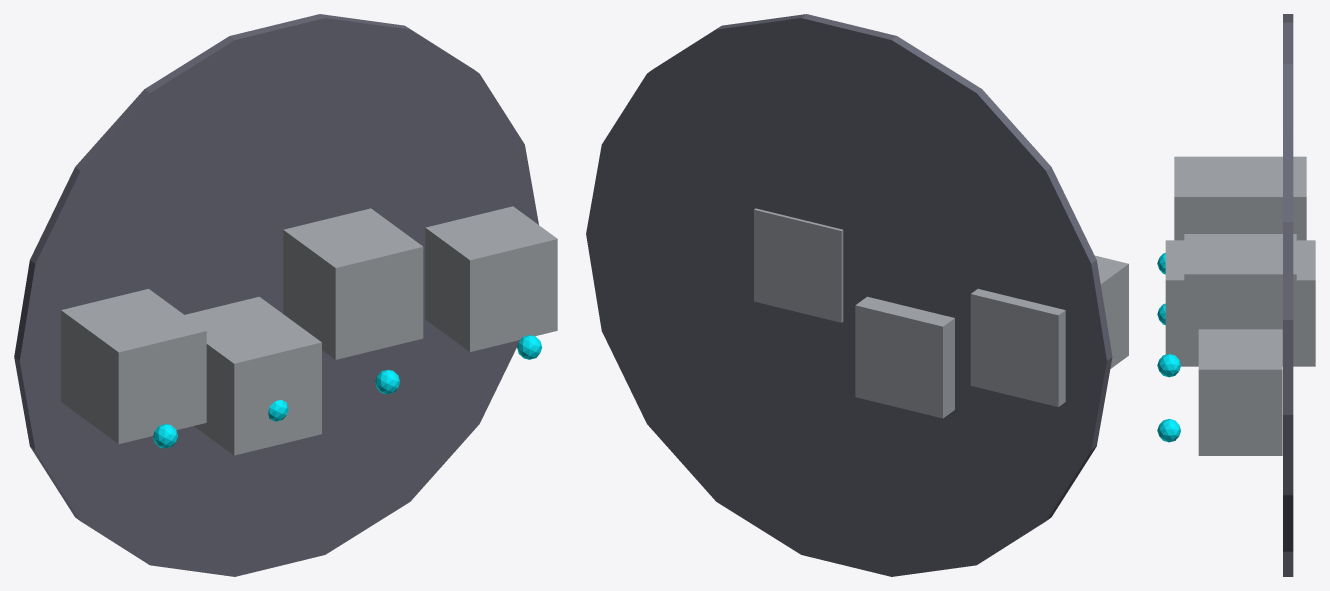
The model's file is 03_ambient_object_cluster.glb.
3 renders of one model, left to right at view 1: azimuth 30°, elevation 25°; view 2: azimuth 150°, elevation 25°; view 3: azimuth 270°, elevation 25°, orthographic. The views are drawn at different scales.
Parts seen in each view (by area): view 1: scatter_base, tech_crate_0, tech_crate_2, tech_crate_3, tech_crate_1; view 2: scatter_base, tech_crate_0, tech_crate_1, tech_crate_2; view 3: tech_crate_3, tech_crate_2, tech_crate_0, scatter_base, tech_crate_1, status_light_2, status_light_3.
Part boxes in pixels (bbox=[...]): scatter_base: bbox=[14, 14, 538, 576]; tech_crate_0: bbox=[61, 289, 206, 443]; tech_crate_2: bbox=[283, 208, 423, 359]; tech_crate_3: bbox=[425, 206, 557, 351]; tech_crate_1: bbox=[185, 296, 321, 455]; scatter_base: bbox=[586, 14, 1112, 576]; tech_crate_0: bbox=[970, 255, 1128, 406]; tech_crate_1: bbox=[855, 296, 954, 418]; tech_crate_2: bbox=[754, 208, 843, 322]; tech_crate_3: bbox=[1198, 329, 1282, 455]; tech_crate_2: bbox=[1184, 234, 1296, 360]; tech_crate_0: bbox=[1174, 156, 1306, 240]; scatter_base: bbox=[1283, 14, 1293, 576]; tech_crate_1: bbox=[1165, 240, 1315, 366]; status_light_2: bbox=[1157, 353, 1180, 377]; status_light_3: bbox=[1157, 419, 1180, 442].
Bounding box in the file's own units: 1.9 × 1.87 × 0.5323.
